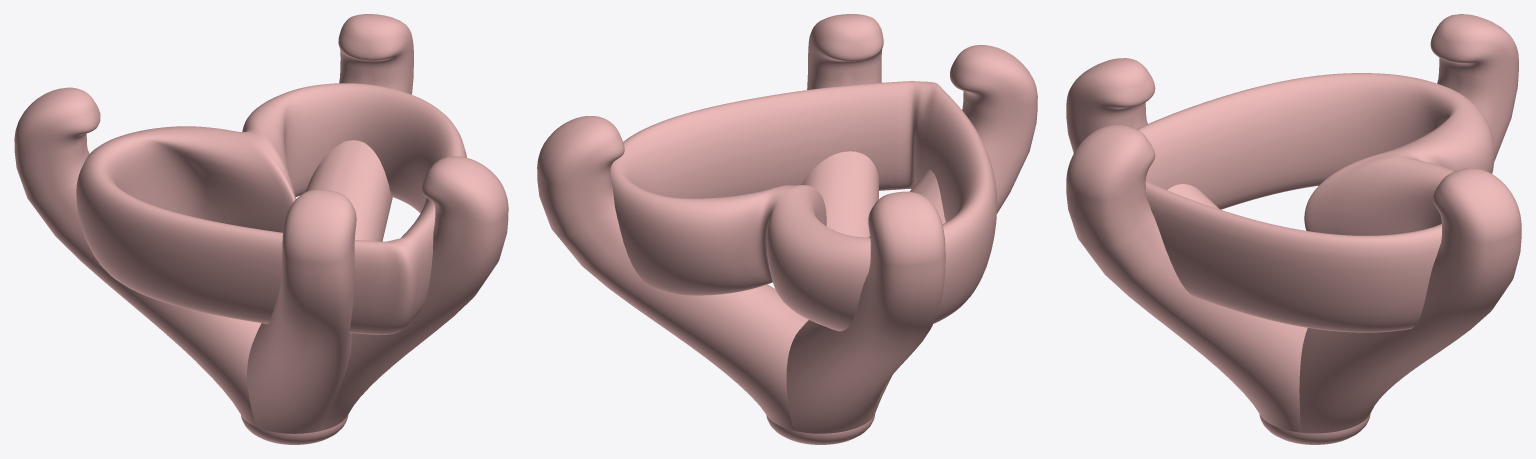
File: HEART.glb
3 renders of one model, left to right at view 1: azimuth 30°, elevation 25°; view 2: azimuth 150°, elevation 25°; view 3: azimuth 270°, elevation 25°, orthographic. The views are drawn at different scales.
Parts seen in each view (by area): view 1: heart; view 2: heart; view 3: heart.
Boxes of the visible parts, left/top/right/bottom form: heart: left=14, top=14, right=508, bottom=444; heart: left=537, top=14, right=1037, bottom=444; heart: left=1066, top=14, right=1521, bottom=444.
Bounding box in the file's own units: 5.48 × 4.3 × 5.28.
